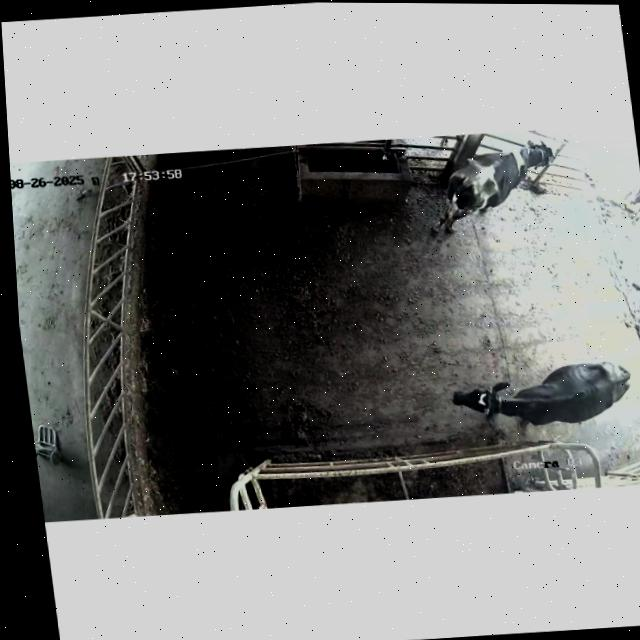stand: (452, 361, 630, 433), (432, 139, 554, 231)
